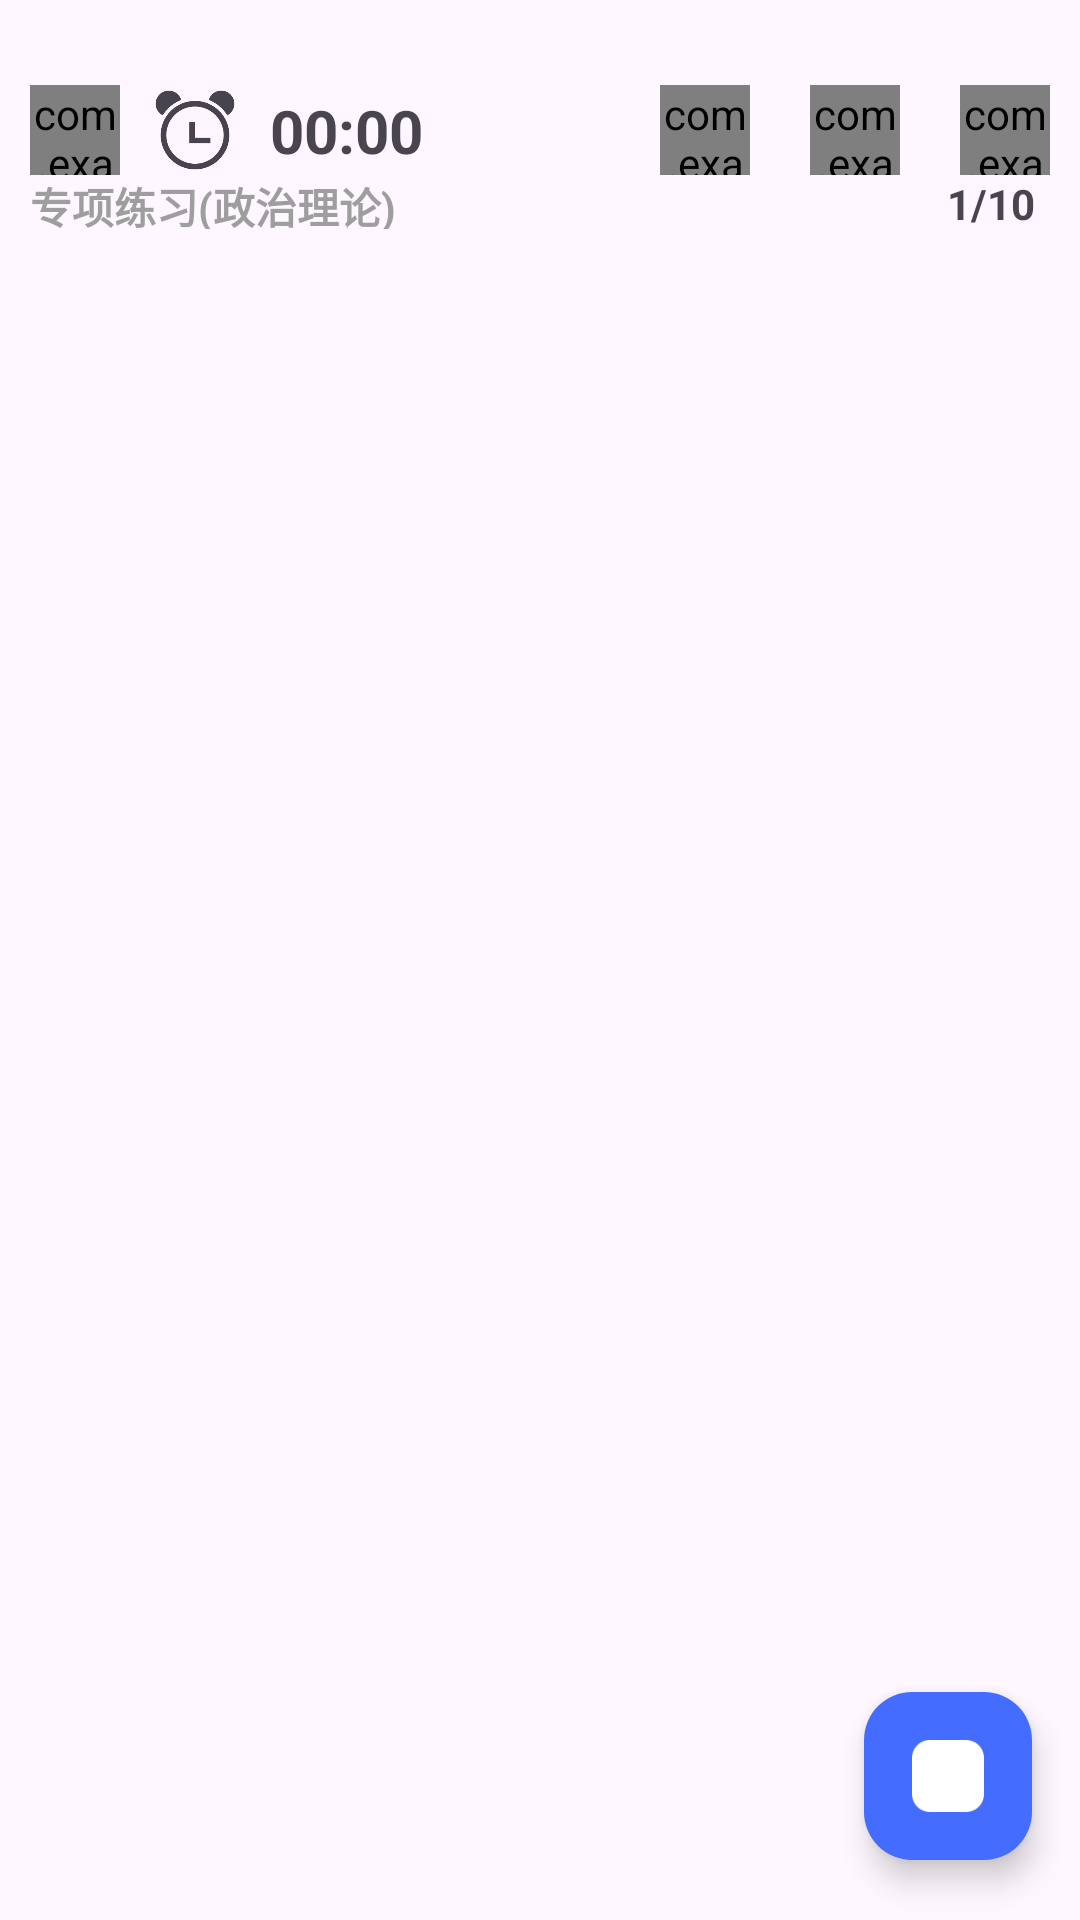

Icon click points for this 1080x1920 phone screenshot, format [x,y]:
clock: [195,130]
